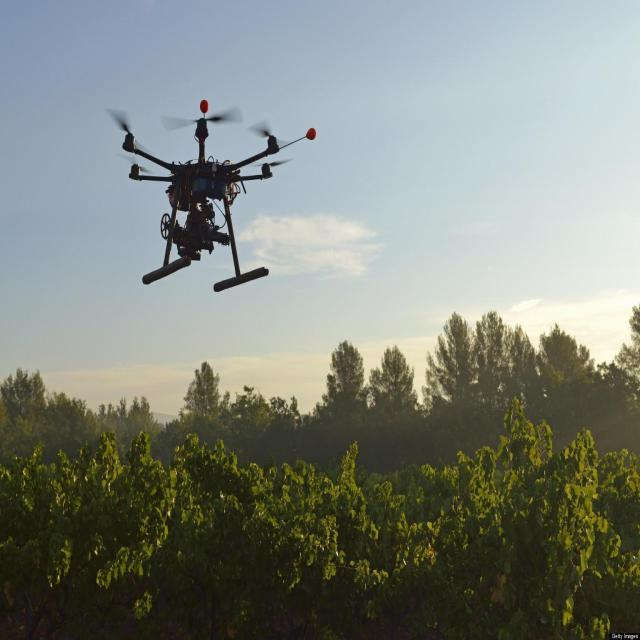drone: (106, 94, 316, 295)
